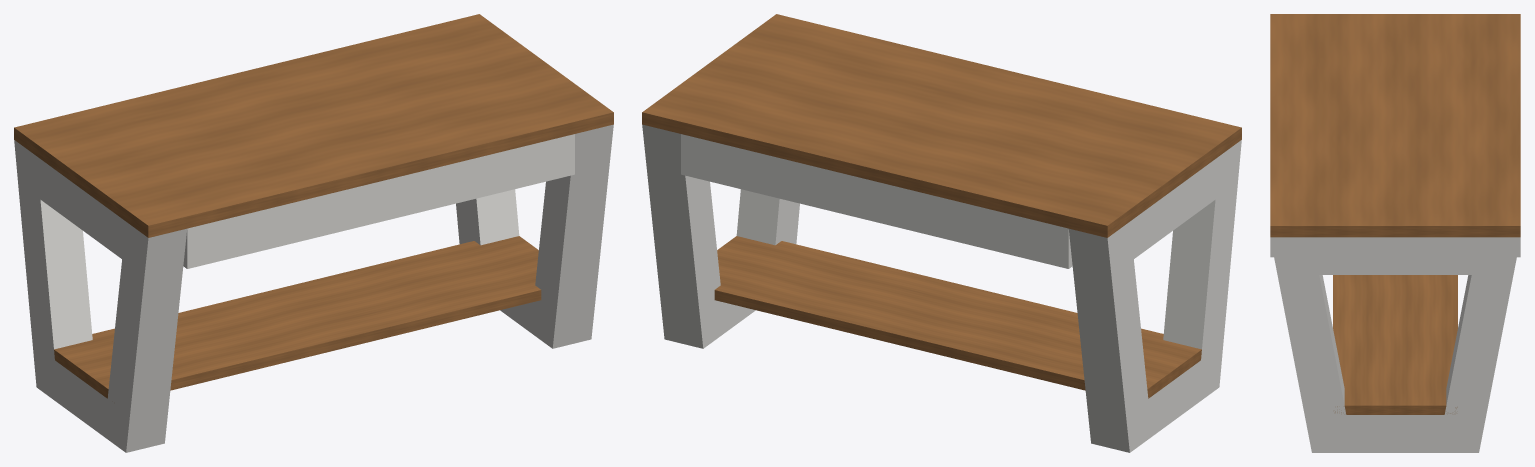
Rendered from mesa-living-nord-estante-roble-blanco-10cm.glb.
3 views of the same model, side by side, from view 1: azimuth 30°, elevation 25°; view 2: azimuth 150°, elevation 25°; view 3: azimuth 270°, elevation 25° (orthographic). The views are drawn at different scales.
Visible parts, largest first — view 1: Tapa de madera maciza 120 x 60 x 3 cm, Patas inclinadas con cortes a inglete, Estante inferior de madera de 120 cm (proporción aproximada), Larguero longitudinal superior de hierro 10 x 10 mm, Travesaño superior del trapecio, perfil 10 cm, Travesaño inferior del trapecio, perfil 10 cm; view 2: Tapa de madera maciza 120 x 60 x 3 cm, Patas inclinadas con cortes a inglete, Estante inferior de madera de 120 cm (proporción aproximada), Larguero longitudinal superior de hierro 10 x 10 mm, Travesaño superior del trapecio, perfil 10 cm, Travesaño inferior del trapecio, perfil 10 cm (×2); view 3: Tapa de madera maciza 120 x 60 x 3 cm, Patas inclinadas con cortes a inglete, Estante inferior de madera de 120 cm (proporción aproximada), Travesaño superior del trapecio, perfil 10 cm, Travesaño inferior del trapecio, perfil 10 cm.
Part boxes in pixels (left/top/right/bottom): Tapa de madera maciza 120 x 60 x 3 cm: left=14, top=14, right=613, bottom=237; Patas inclinadas con cortes a inglete: left=14, top=124, right=613, bottom=452; Estante inferior de madera de 120 cm (proporción aproximada): left=54, top=236, right=541, bottom=398; Larguero longitudinal superior de hierro 10 x 10 mm: left=183, top=134, right=574, bottom=268; Travesaño superior del trapecio, perfil 10 cm: left=36, top=156, right=137, bottom=269; Travesaño inferior del trapecio, perfil 10 cm: left=55, top=360, right=114, bottom=438; Tapa de madera maciza 120 x 60 x 3 cm: left=642, top=14, right=1241, bottom=237; Patas inclinadas con cortes a inglete: left=642, top=124, right=1241, bottom=452; Estante inferior de madera de 120 cm (proporción aproximada): left=714, top=236, right=1201, bottom=398; Larguero longitudinal superior de hierro 10 x 10 mm: left=681, top=134, right=1072, bottom=268; Travesaño superior del trapecio, perfil 10 cm: left=1118, top=149, right=1230, bottom=268; Travesaño inferior del trapecio, perfil 10 cm (×2): left=715, top=300, right=1200, bottom=436; Tapa de madera maciza 120 x 60 x 3 cm: left=1270, top=14, right=1520, bottom=237; Patas inclinadas con cortes a inglete: left=1270, top=237, right=1520, bottom=452; Estante inferior de madera de 120 cm (proporción aproximada): left=1333, top=275, right=1457, bottom=414; Travesaño superior del trapecio, perfil 10 cm: left=1291, top=237, right=1499, bottom=274; Travesaño inferior del trapecio, perfil 10 cm: left=1333, top=415, right=1457, bottom=452.
Size of the model in its own units: 1.2 by 0.6 by 0.6.
2 materials, 1 textured.
